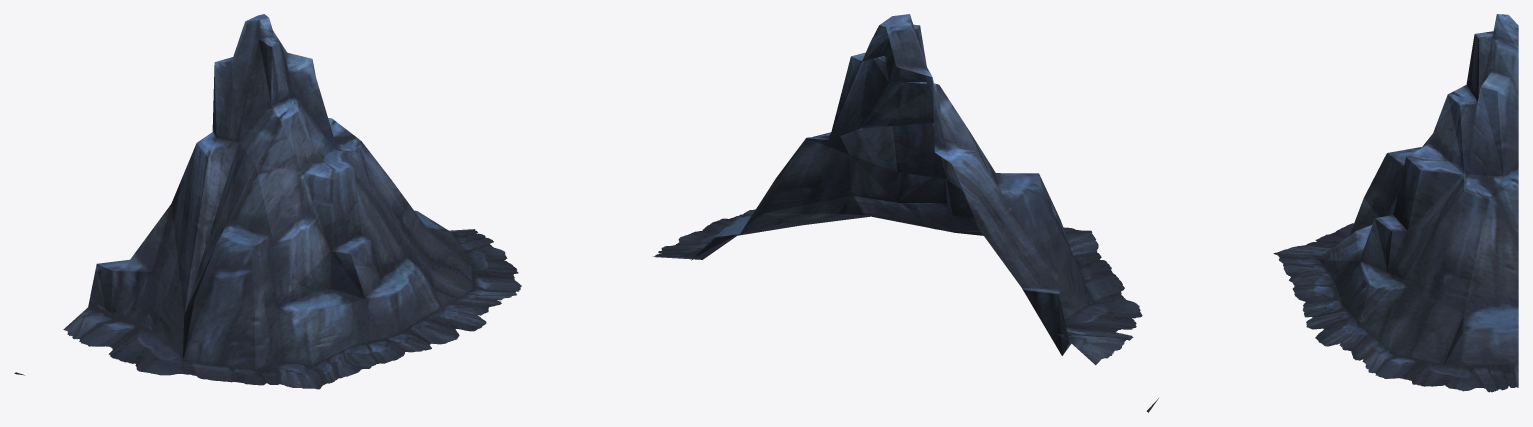
Rendered from mine_half_footer_01.fbx.
3 renders of one model, left to right at view 1: azimuth 30°, elevation 25°; view 2: azimuth 150°, elevation 25°; view 3: azimuth 270°, elevation 25°, orthographic. The views are drawn at different scales.
Parts seen in each view (by area): view 1: mine_tileset/rock01_mat; view 2: mine_tileset/rock01_mat; view 3: mine_tileset/rock01_mat.
Boxes of the visible parts, x1,y1,x2,y2 form: mine_tileset/rock01_mat: [14, 14, 521, 389]; mine_tileset/rock01_mat: [653, 14, 1158, 412]; mine_tileset/rock01_mat: [1273, 14, 1518, 392].
Bounding box in the file's own units: 5.21 × 3.05 × 2.67.
